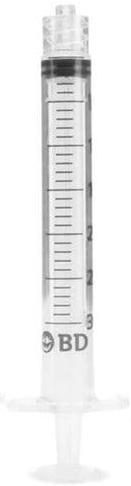syringes: (0, 1, 131, 486)
